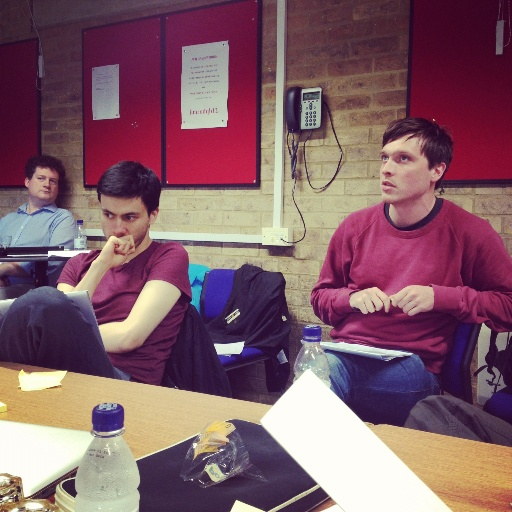hand: (387, 281, 435, 317), (97, 233, 135, 267), (347, 285, 390, 315), (0, 274, 11, 287)
